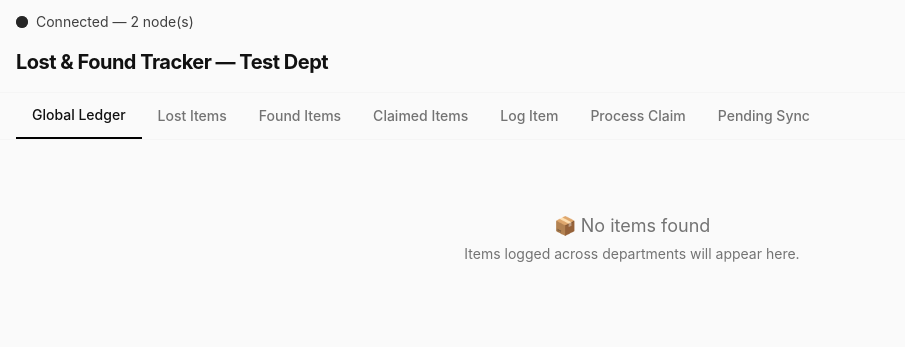
Test: App Component › switches to Process Claim tab when clicked
Click the tab "Process Claim".
click(638, 116)  # box [574,93,702,139]
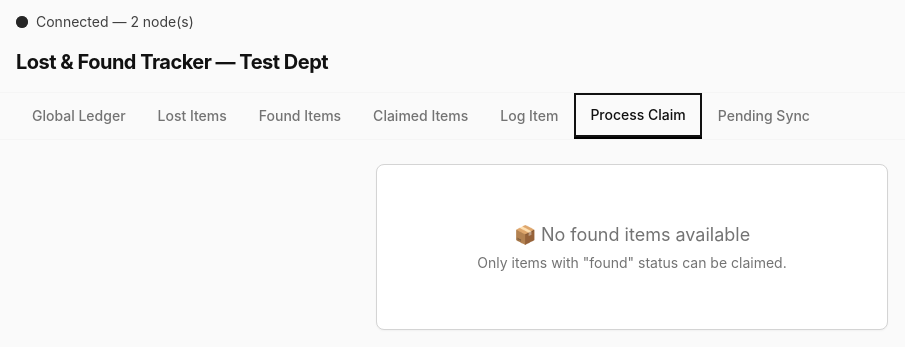
Expected: the text "📦 No found items available" is shown, [514,224,750,245]
